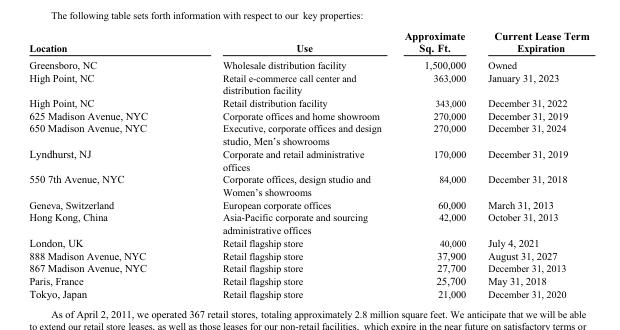table: (28, 29, 588, 299)
table column: (184, 29, 392, 299), (28, 29, 184, 299), (476, 29, 588, 299), (392, 29, 476, 299)
table column header: (28, 29, 588, 41)
table row: (28, 70, 588, 96), (28, 146, 588, 172), (28, 121, 588, 146), (28, 172, 588, 197), (28, 210, 588, 235), (28, 41, 588, 56), (28, 56, 588, 70), (28, 108, 588, 121), (28, 197, 588, 210), (28, 235, 588, 248), (28, 248, 588, 261), (28, 273, 588, 286), (28, 286, 588, 299), (28, 29, 588, 41), (28, 96, 588, 108), (28, 261, 588, 273)
